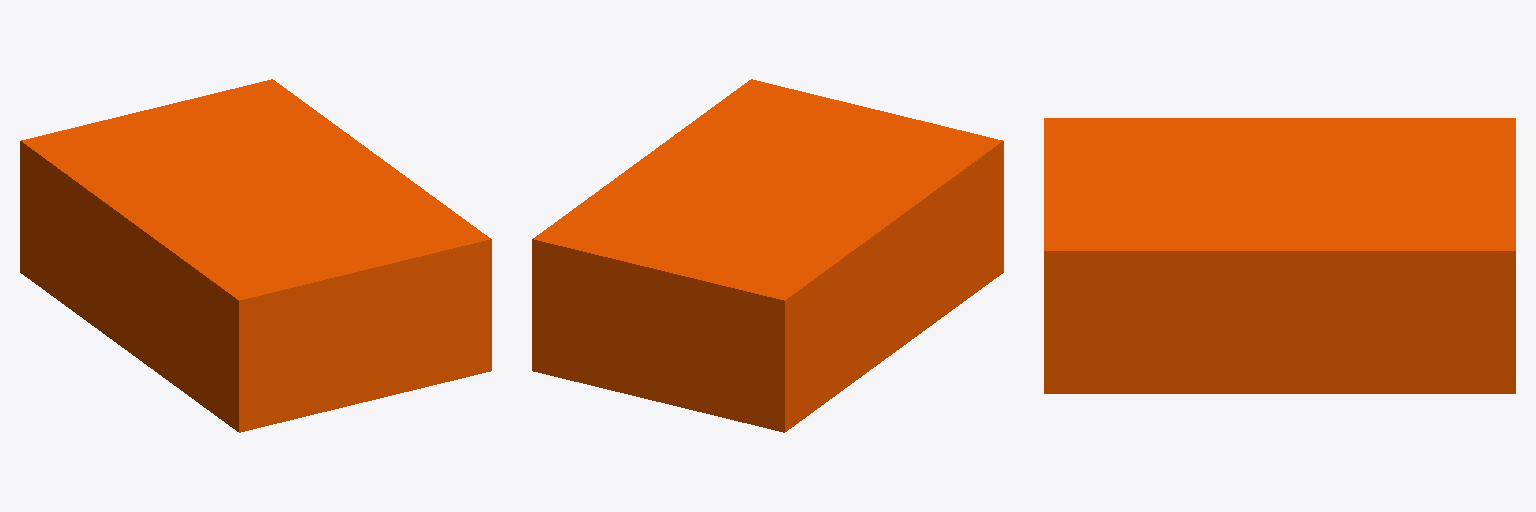
URDF robot description (turtlebot3_burger):
<?xml version="1.0" ?>
<robot name="turtlebot3_burger"
       xmlns:xacro="http://ros.org/wiki/xacro">

  <!-- Init colour -->
  <material name="black">
    <color rgba="0.0 0.0 0.0 1.0"/>
  </material>
  <material name="dark">
    <color rgba="0.3 0.3 0.3 1.0"/>
  </material>
  <material name="light_black">
    <color rgba="0.4 0.4 0.4 1.0"/>
  </material>
  <material name="blue">
    <color rgba="0.0 0.0 0.8 1.0"/>
  </material>
  <material name="green">
    <color rgba="0.0 0.8 0.0 1.0"/>
  </material>
  <material name="grey">
    <color rgba="0.5 0.5 0.5 1.0"/>
  </material>
  <material name="orange">
    <color rgba="1.0 0.4235 0.0392 1.0"/>
  </material>
  <material name="brown">
    <color rgba="0.8706 0.8118 0.7647 1.0"/>
  </material>
  <material name="red">
    <color rgba="0.8 0.0 0.0 1.0"/>
  </material>
  <material name="white">
    <color rgba="1.0 1.0 1.0 1.0"/>
  </material>

  <!-- Base footprint and link -->
  <link name="base_footprint"/>
  <joint name="base_joint" type="fixed">
    <parent link="base_footprint"/>
    <child link="base_link"/>
    <origin xyz="0.0 0.0 0.010" rpy="0 0 0"/>
  </joint>

  <link name="base_link">
    <visual>
      <origin xyz="-0.032 0 0.0" rpy="0 0 0"/>
      <geometry>
        <mesh filename="package://turtlebot3_gazebo/models/turtlebot3_common/meshes/bases/burger_base.stl"
              scale="0.001 0.001 0.001"/>
      </geometry>
      <material name="light_black"/>
    </visual>
    <collision>
      <origin xyz="-0.032 0 0.070" rpy="0 0 0"/>
      <geometry>
        <box size="0.140 0.140 0.143"/>
      </geometry>
    </collision>
    <inertial>
      <origin xyz="0 0 0" rpy="0 0 0"/>
      <mass value="0.82573504"/>
      <inertia ixx="0.0022124416" ixy="-1.2294101e-05" ixz="3.4938785e-05"
               iyy="0.0021193702" iyz="-5.0120904e-06" izz="0.0020064271"/>
    </inertial>
  </link>

  <!-- Left wheel -->
  <joint name="wheel_left_joint" type="continuous">
    <parent link="base_link"/>
    <child link="wheel_left_link"/>
    <origin xyz="0.0 0.08 0.023" rpy="-1.57 0 0"/>
    <axis xyz="0 0 1"/>
  </joint>
  <link name="wheel_left_link">
    <visual>
      <origin xyz="0 0 0" rpy="1.57 0 0"/>
      <geometry>
        <mesh filename="package://turtlebot3_gazebo/models/turtlebot3_common/meshes/wheels/left_tire.stl"
              scale="0.001 0.001 0.001"/>
      </geometry>
      <material name="dark"/>
    </visual>
    <collision>
      <origin xyz="0 0 0" rpy="0 0 0"/>
      <geometry>
        <cylinder length="0.018" radius="0.033"/>
      </geometry>
    </collision>
    <inertial>
      <origin xyz="0 0 0"/>
      <mass value="0.02849894"/>
      <inertia ixx="1.1175580e-05" ixy="-4.2369783e-11" ixz="-5.9381719e-09"
               iyy="1.1192413e-05" iyz="-1.4400107e-11" izz="2.0712558e-05"/>
    </inertial>
  </link>

  <!-- Right wheel -->
  <joint name="wheel_right_joint" type="continuous">
    <parent link="base_link"/>
    <child link="wheel_right_link"/>
    <origin xyz="0.0 -0.080 0.023" rpy="-1.57 0 0"/>
    <axis xyz="0 0 1"/>
  </joint>
  <link name="wheel_right_link">
    <visual>
      <origin xyz="0 0 0" rpy="1.57 0 0"/>
      <geometry>
        <mesh filename="package://turtlebot3_gazebo/models/turtlebot3_common/meshes/wheels/right_tire.stl"
              scale="0.001 0.001 0.001"/>
      </geometry>
      <material name="dark"/>
    </visual>
    <collision>
      <origin xyz="0 0 0" rpy="0 0 0"/>
      <geometry>
        <cylinder length="0.018" radius="0.033"/>
      </geometry>
    </collision>
    <inertial>
      <origin xyz="0 0 0"/>
      <mass value="0.02849894"/>
      <inertia ixx="1.1175580e-05" ixy="-4.2369783e-11" ixz="-5.9381719e-09"
               iyy="1.1192413e-05" iyz="-1.4400107e-11" izz="2.0712558e-05"/>
    </inertial>
  </link>

  <!-- Caster -->
  <joint name="caster_back_joint" type="fixed">
    <parent link="base_link"/>
    <child link="caster_back_link"/>
    <origin xyz="-0.081 0 -0.004" rpy="-1.57 0 0"/>
  </joint>
  <link name="caster_back_link">
    <collision>
      <origin xyz="0 0.001 0" rpy="0 0 0"/>
      <geometry>
        <box size="0.030 0.009 0.020"/>
      </geometry>
    </collision>
    <inertial>
      <origin xyz="0 0 0"/>
      <mass value="0.005"/>
      <inertia ixx="0.001" ixy="0.0" ixz="0.0"
               iyy="0.001" iyz="0.0" izz="0.001"/>
    </inertial>
  </link>

  <!-- IMU -->
  <joint name="imu_joint" type="fixed">
    <parent link="base_link"/>
    <child link="imu_link"/>
    <origin xyz="-0.032 0 0.068" rpy="0 0 0"/>
  </joint>
  <link name="imu_link"/>

  <!-- Laser scanner -->
  <joint name="scan_joint" type="fixed">
    <parent link="base_link"/>
    <child link="base_scan"/>
    <origin xyz="-0.032 0 0.172" rpy="0 0 0"/>
  </joint>
  <link name="base_scan">
    <visual>
      <origin xyz="0 0 0.0" rpy="0 0 0"/>
      <geometry>
        <mesh filename="package://turtlebot3_gazebo/models/turtlebot3_common/meshes/sensors/lds.stl"
              scale="0.001 0.001 0.001"/>
      </geometry>
      <material name="dark"/>
    </visual>
    <collision>
      <origin xyz="0.015 0 -0.0065" rpy="0 0 0"/>
      <geometry>
        <cylinder length="0.0315" radius="0.055"/>
      </geometry>
    </collision>
    <inertial>
      <origin xyz="0 0 0"/>
      <mass value="0.114"/>
      <inertia ixx="0.001" ixy="0.0" ixz="0.0"
               iyy="0.001" iyz="0.0" izz="0.001"/>
    </inertial>
  </link>

  <!-- Basket attachment -->
  <joint name="basket_joint" type="fixed">
    <parent link="base_link"/>
    <child link="basket_link"/>
    <origin xyz="-0.15 0 0.05" rpy="0 0 0"/>
  </joint>
  <link name="basket_link">
    <visual>
      <origin xyz="0 0 0" rpy="0 0 0"/>
      <geometry>
        <box size="0.20 0.30 0.10"/>
      </geometry>
      <material name="orange"/>
    </visual>
    <collision>
      <origin xyz="0 0 0" rpy="0 0 0"/>
      <geometry>
        <box size="0.20 0.30 0.10"/>
      </geometry>
    </collision>
    <inertial>
      <origin xyz="0 0 0" rpy="0 0 0"/>
      <mass value="0.5"/>
      <inertia ixx="0.002" ixy="0.0" ixz="0.0"
               iyy="0.003" iyz="0.0" izz="0.001"/>
    </inertial>
  </link>

</robot>

--- What the picture shows (computed from the rendered views, not written in the file) ---
The picture shows the robot from 3 angles, left to right: view 1: azimuth 30°, elevation 25°; view 2: azimuth 150°, elevation 25°; view 3: azimuth 270°, elevation 25°; orthographic projection.
Robot: turtlebot3_burger — 8 links, 7 joints (2 continuous, 5 fixed); root link base_footprint; default pose: every joint at zero.
Visible links, largest first — view 1: basket_link; view 2: basket_link; view 3: basket_link.
Link boxes in pixels (x1,y1,x2,y2): basket_link: [20, 79, 491, 432]; basket_link: [532, 79, 1003, 432]; basket_link: [1044, 118, 1515, 393].
Size in the robot's own frame: 0.2 by 0.3 by 0.1 metres.
0 mesh visuals loaded from 4 distinct referenced files (none loaded); not drawn: 4 (reference not matched to a file when rendering).